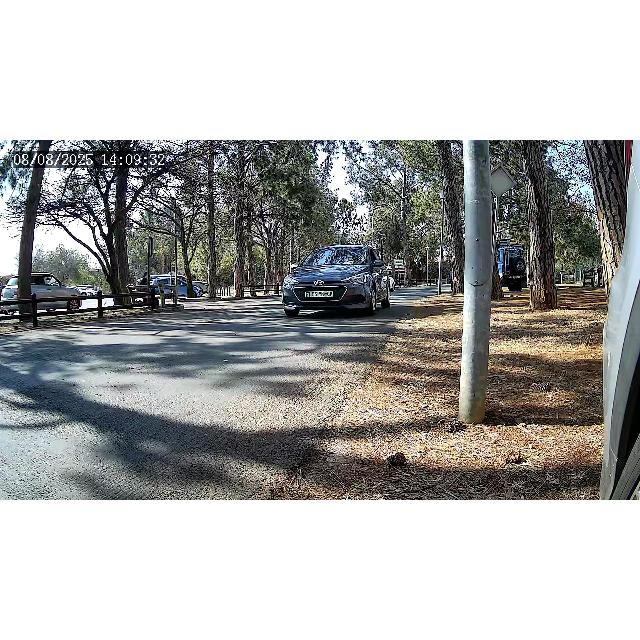car: (281, 242, 395, 318), (1, 272, 84, 316), (148, 275, 202, 299)
plate: (304, 290, 334, 298)
